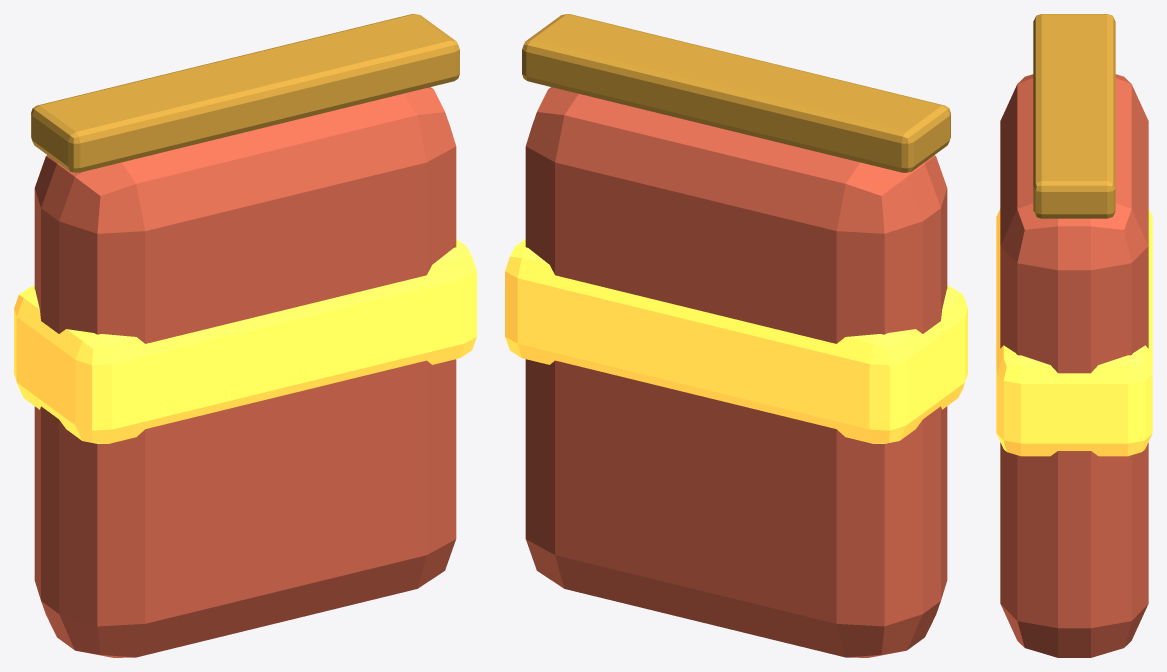
File: chips_bag.glb
The picture shows the model from 3 angles, left to right: view 1: azimuth 30°, elevation 25°; view 2: azimuth 150°, elevation 25°; view 3: azimuth 270°, elevation 25°; orthographic projection. The views are drawn at different scales.
Parts seen in each view (by area): view 1: bag, band, crimp; view 2: bag, band, crimp; view 3: bag, crimp, band.
Boxes of the visible parts, x1,y1,x2,y2 form: bag: (34, 87, 456, 657); band: (14, 239, 476, 443); crimp: (31, 14, 459, 172); bag: (525, 87, 947, 657); band: (505, 239, 967, 443); crimp: (522, 14, 950, 172); bag: (1000, 74, 1148, 657); crimp: (1033, 14, 1115, 218); band: (996, 209, 1152, 456).
Bounding box in the file's own units: 0.51 × 0.665 × 0.19.
